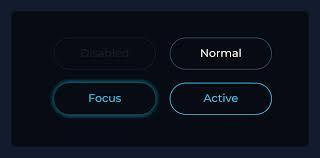button: (52, 82, 159, 119), (172, 38, 274, 72), (170, 83, 273, 116)
